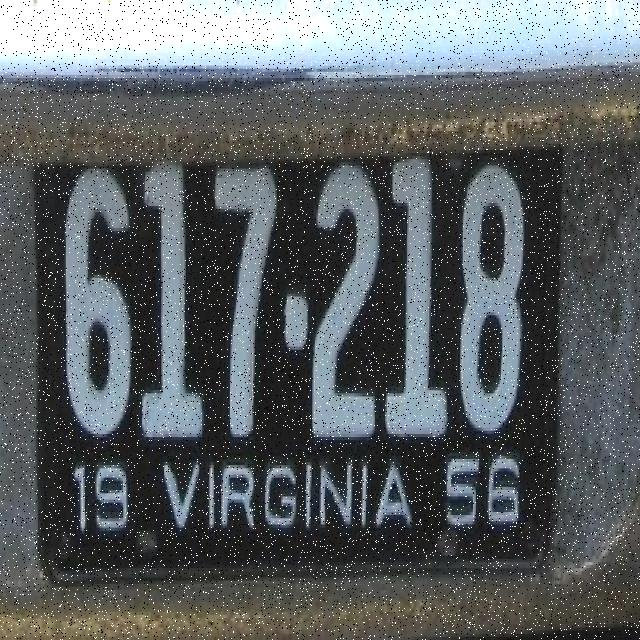licenseplate: (10, 133, 580, 585)
